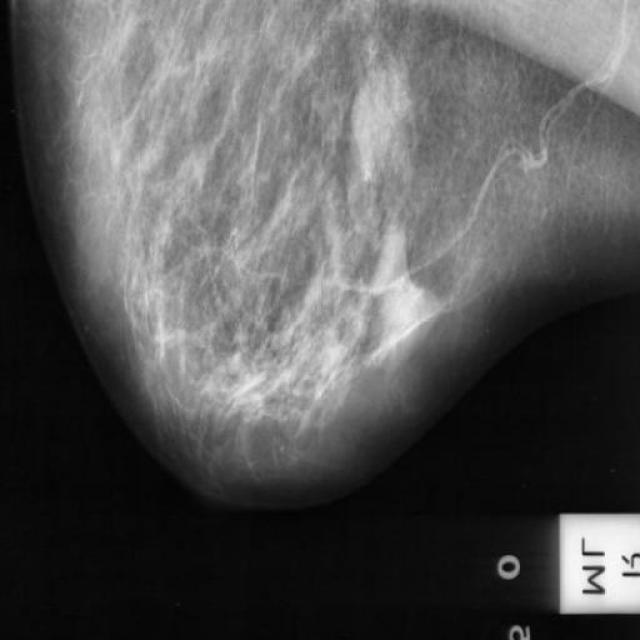cancer: (272, 348, 349, 449)
